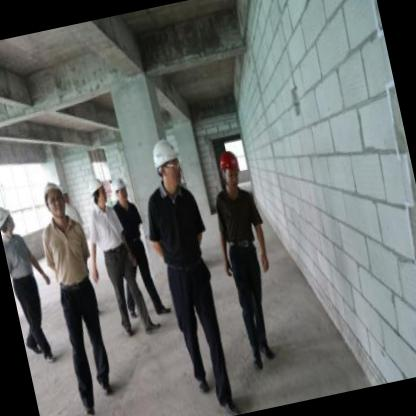helmet: (146, 131, 188, 195), (212, 145, 245, 199), (38, 176, 68, 223), (106, 166, 134, 212), (85, 170, 113, 214), (0, 196, 22, 240)
